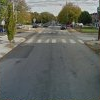crosswalk: (31, 38, 84, 43)
